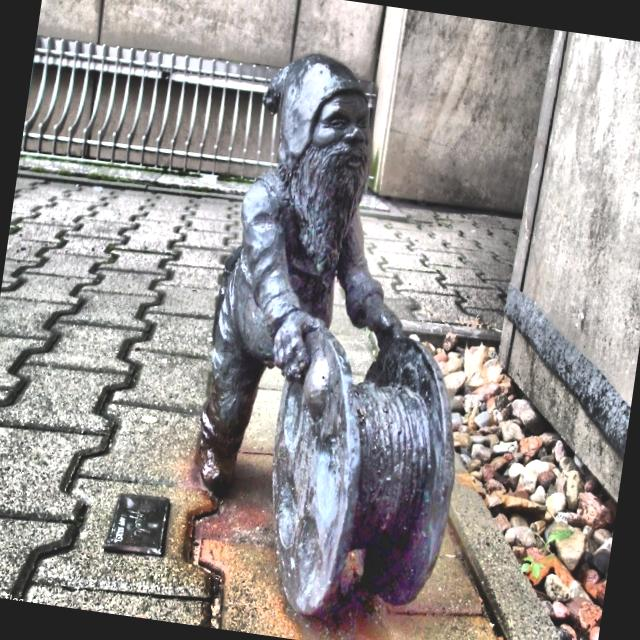Lappek: (200, 55, 458, 619)
